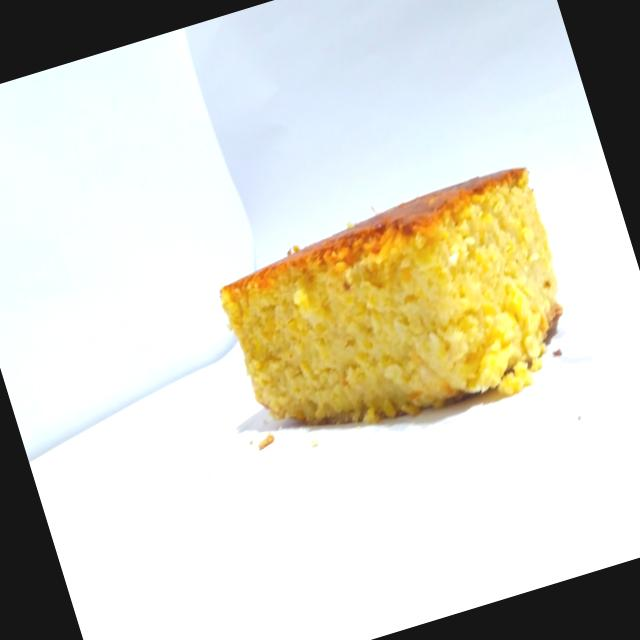Chipa_Guazu: (198, 144, 608, 478)
